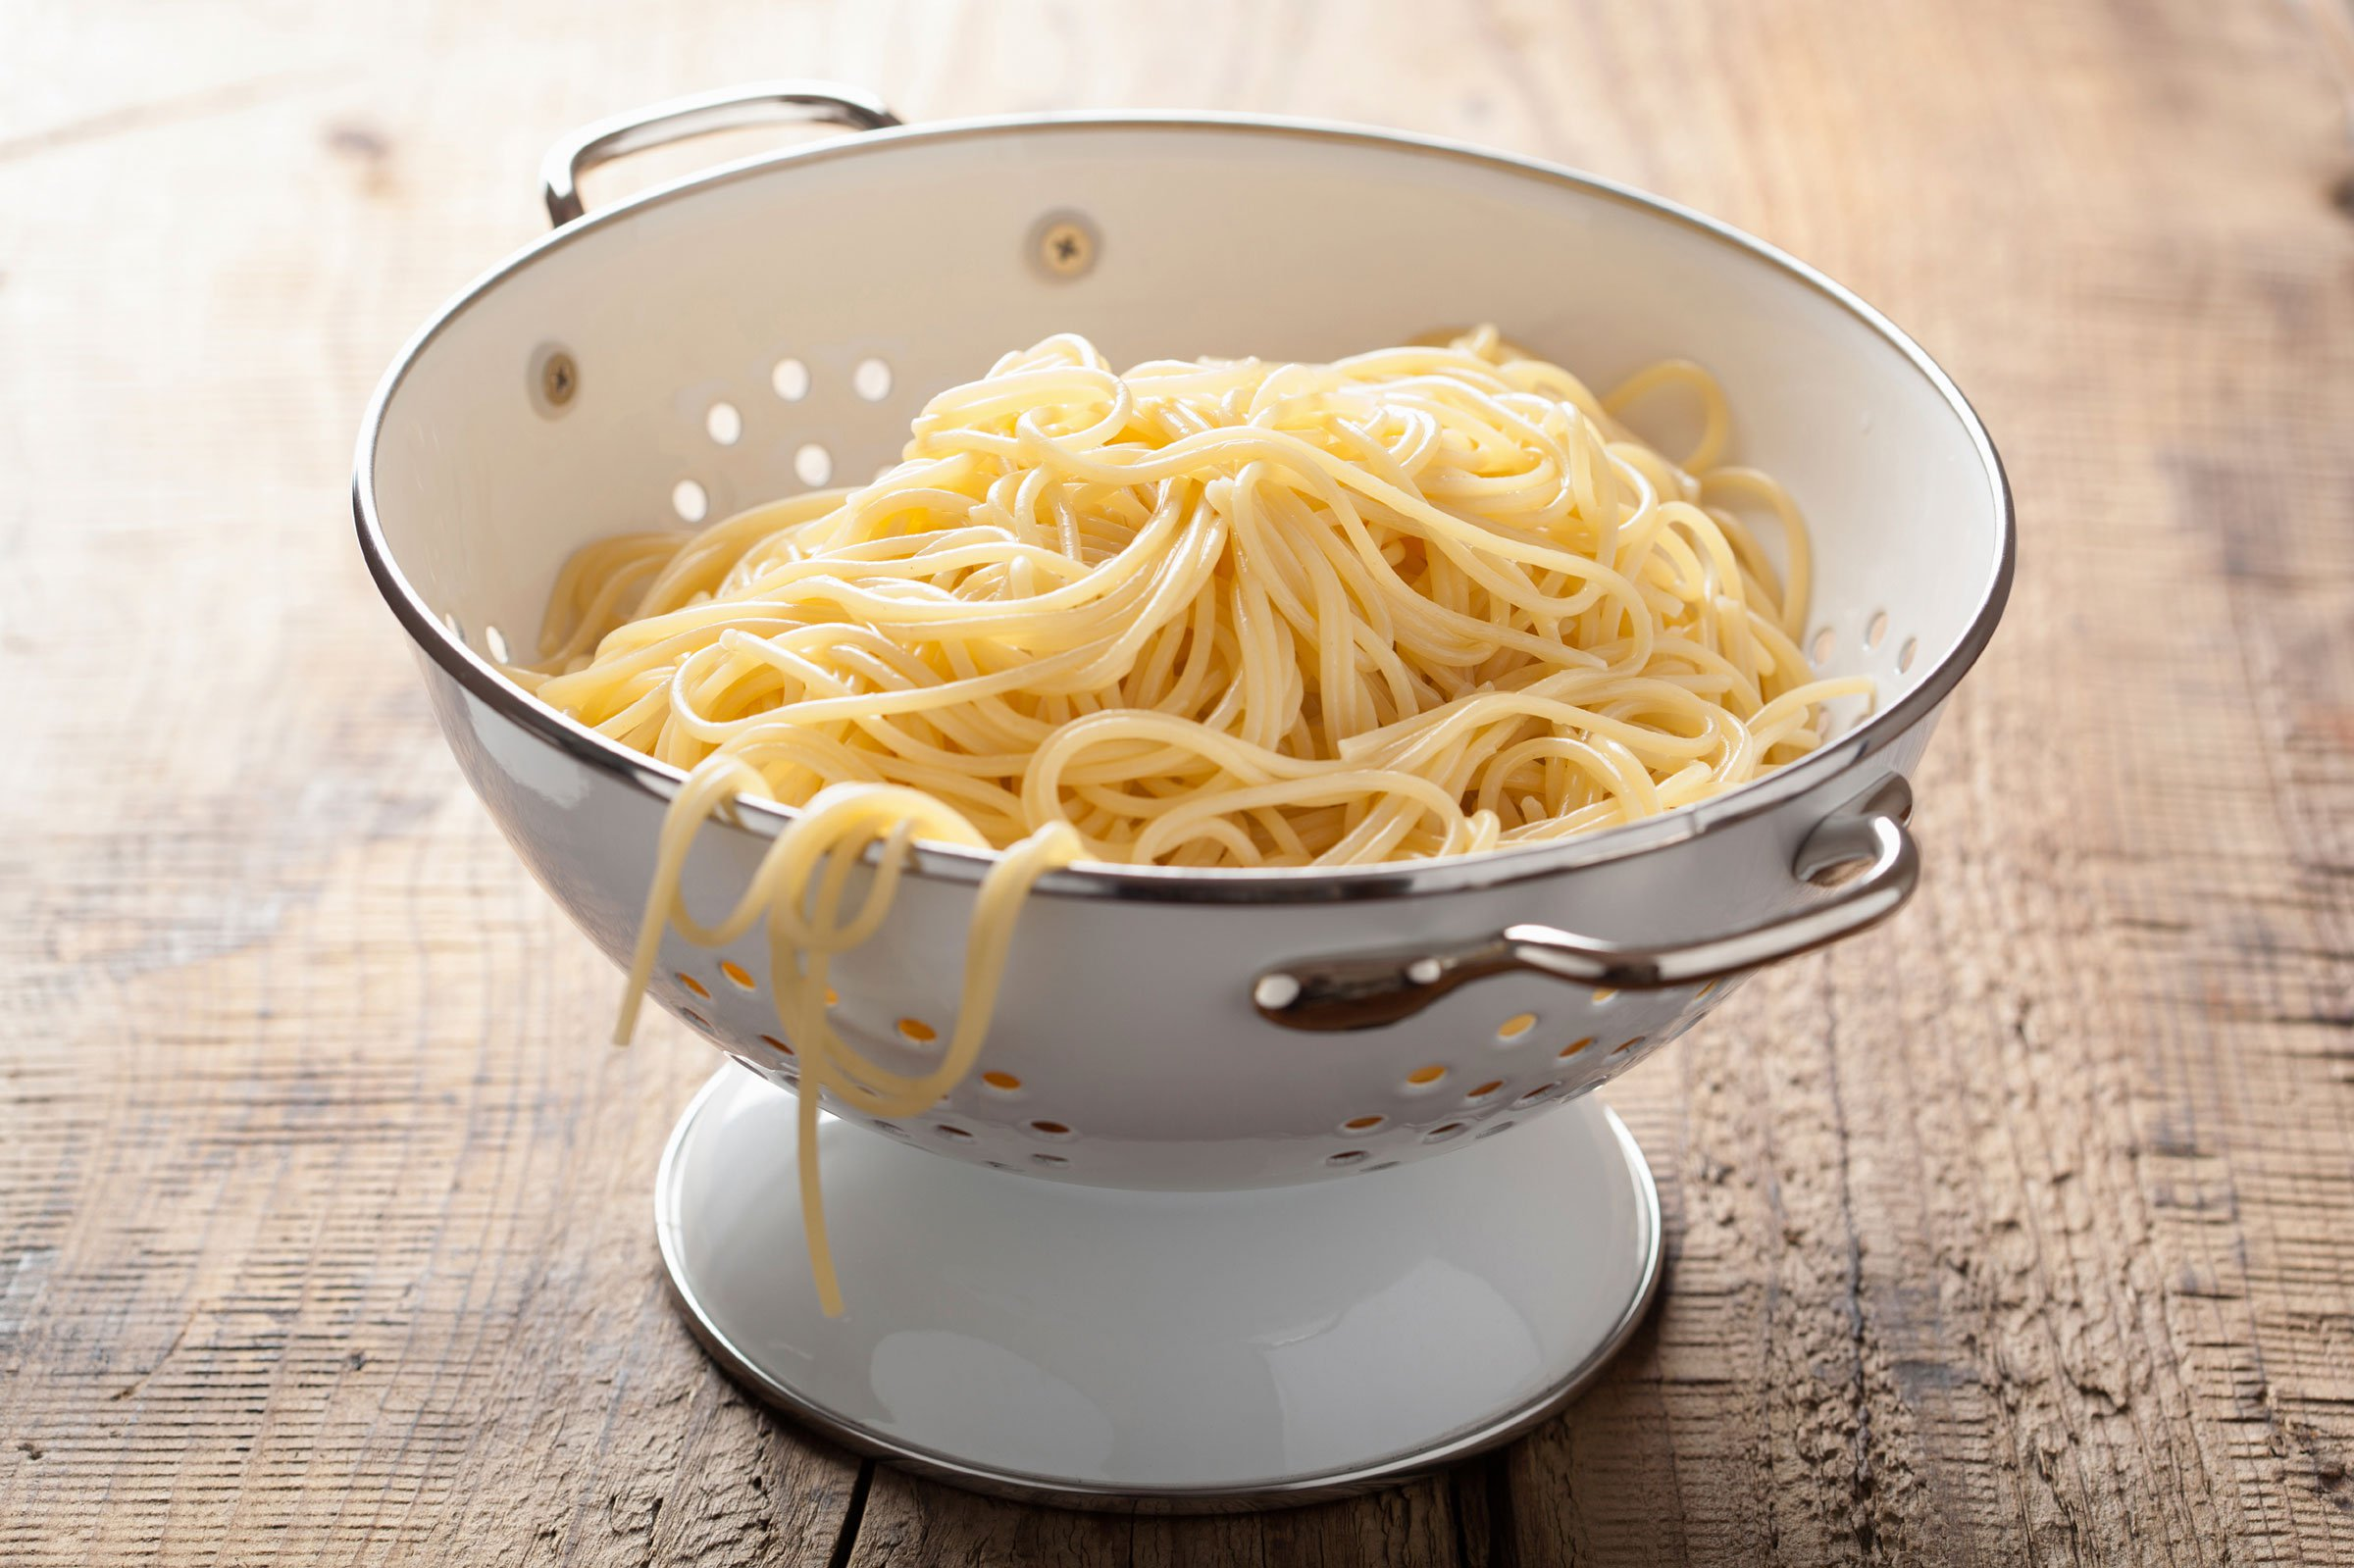plain spaghetti: (583, 322, 1890, 941)
